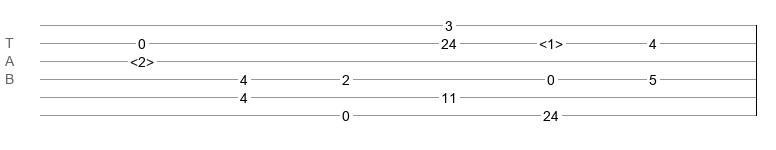0: (138, 36, 146, 46), (342, 108, 350, 118), (547, 72, 555, 82)
11: (441, 90, 457, 100)
2: (342, 72, 350, 82)
24: (441, 36, 457, 46), (543, 108, 559, 118)
3: (445, 18, 453, 28)
4: (240, 90, 248, 100), (240, 72, 248, 82), (649, 36, 657, 46)
5: (649, 72, 657, 82)
harmonic: (130, 54, 154, 64), (539, 36, 563, 46)
